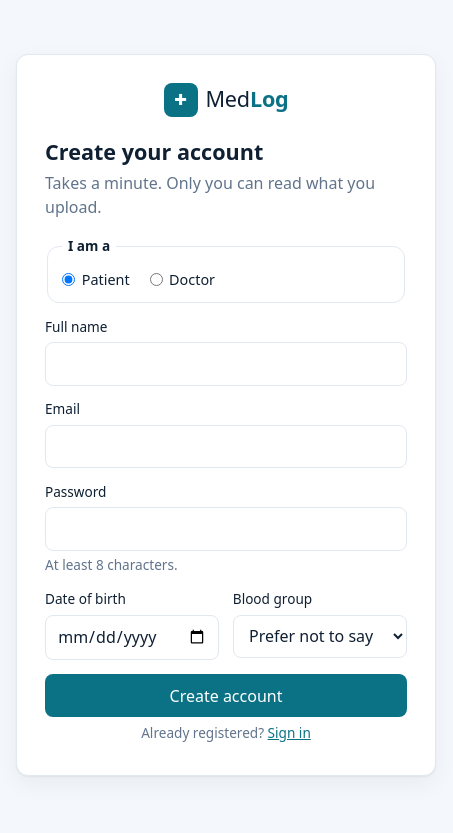
Scenario: RegisterPage › shows every field error returned by the API
Step 1. Type "Asha Rao" into the field labelled "Full name" → (226, 364), box [45, 342, 407, 386]
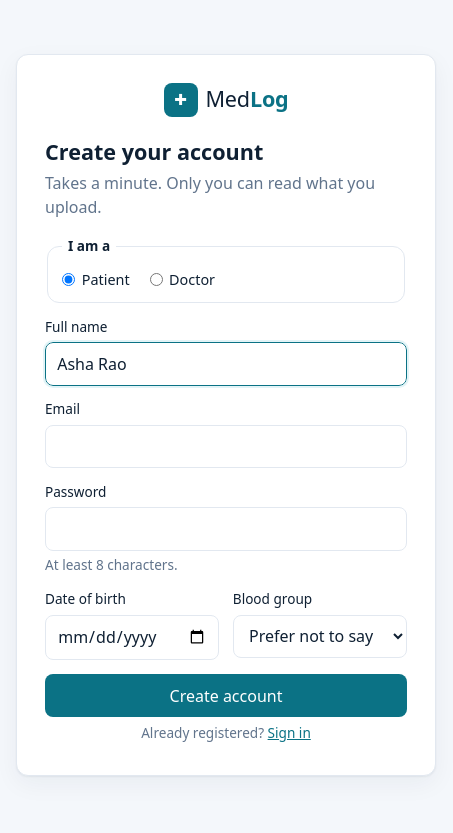
Step 2. Type "nope" into the field labelled "Email" → (226, 446), box [45, 425, 407, 468]
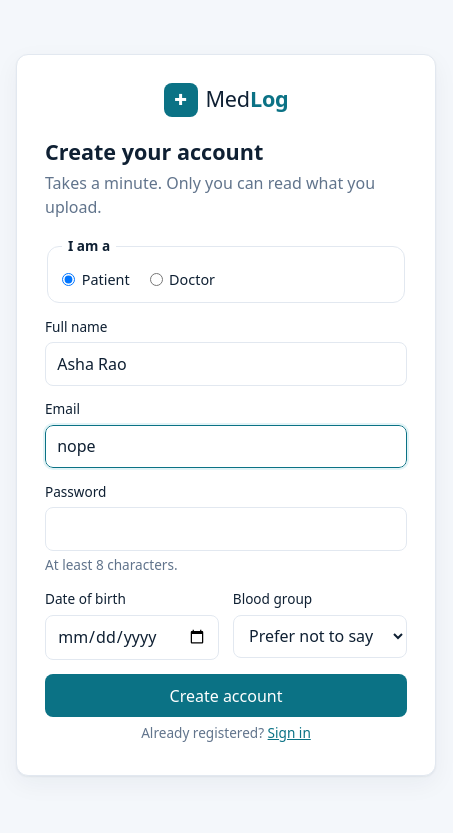
Step 3. Type "short" into the password field labelled "Password At least 8 characters." → (226, 529), box [45, 507, 407, 551]
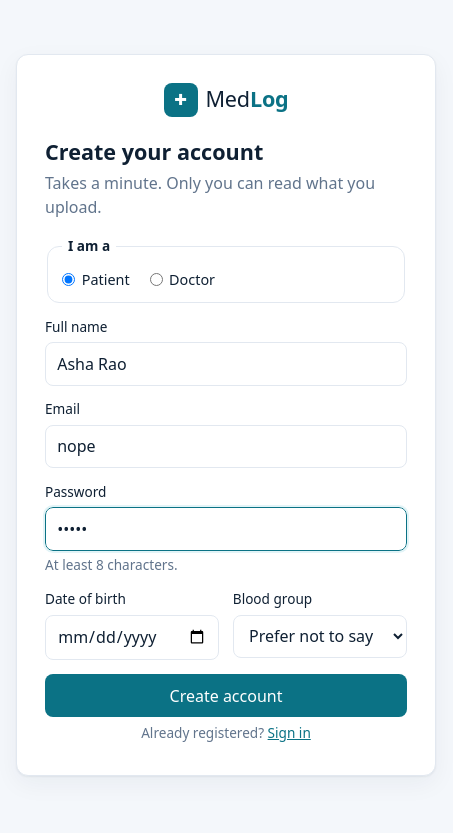
Step 4. Click the button "Create account" → (226, 696), box [45, 674, 407, 717]
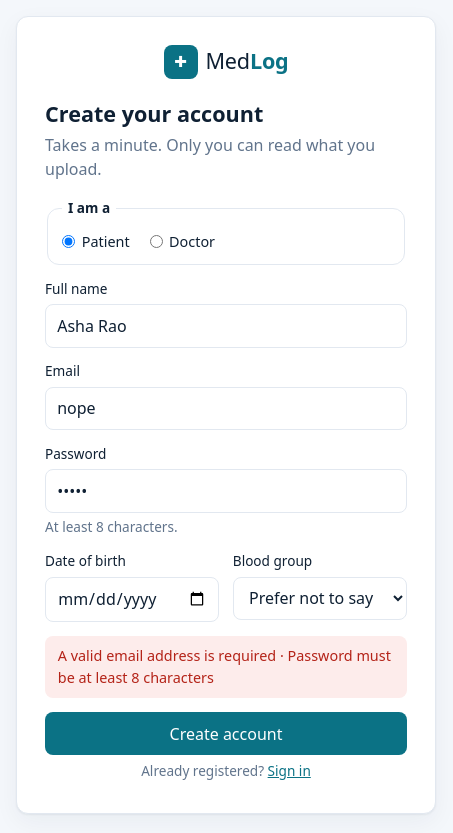
Now the message shows "A valid email address is required", box [58, 646, 391, 687]
Now the message shows "Password must be at least 8 characters", box [58, 646, 391, 687]
